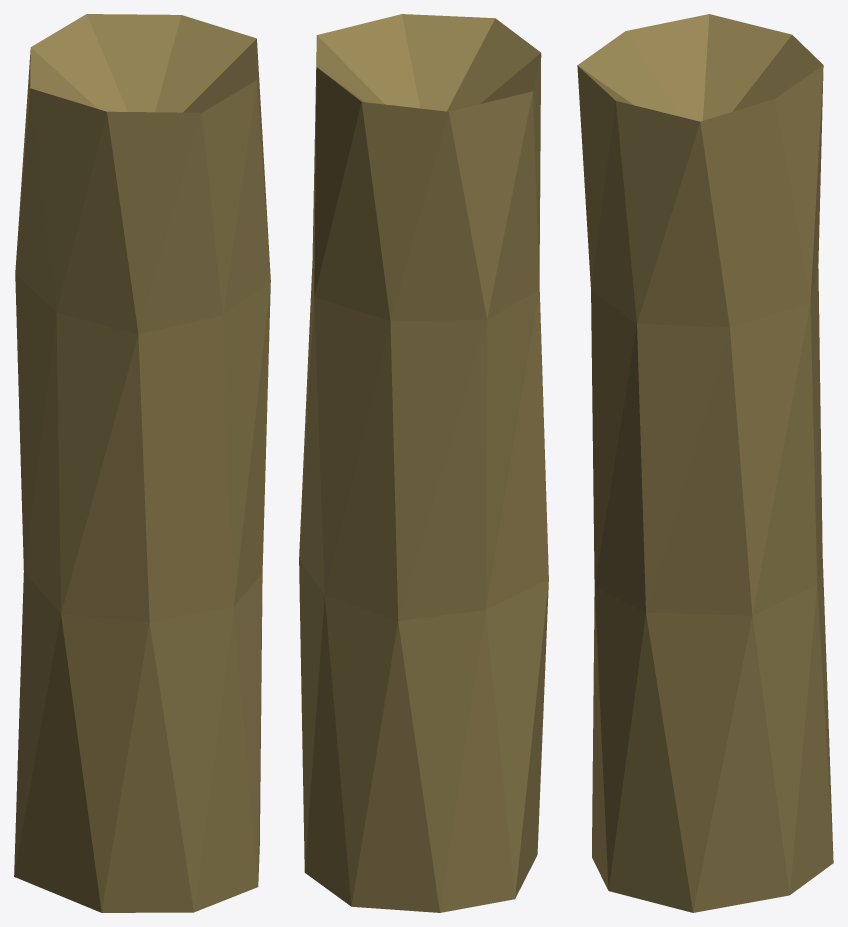
Rendered from test_candle.fbx.
The picture shows the model from 3 angles, left to right: view 1: azimuth 30°, elevation 25°; view 2: azimuth 150°, elevation 25°; view 3: azimuth 270°, elevation 25°; orthographic projection.
Visible parts, largest first — view 1: Cube.014; view 2: Cube.014; view 3: Cube.014.
Boxes of the visible parts, x1,y1,x2,y2 form: Cube.014: [14, 14, 270, 912]; Cube.014: [299, 14, 548, 912]; Cube.014: [577, 14, 833, 912].
Bounding box in the file's own units: 46.75 × 163 × 47.42.
